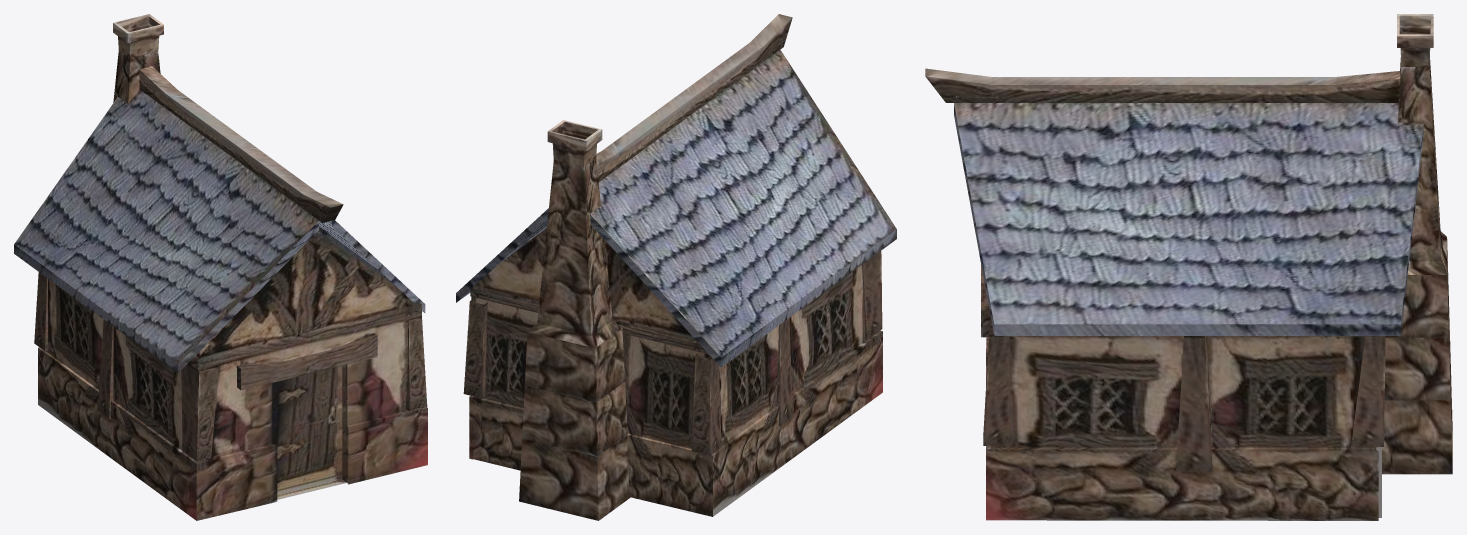
3 renders of one model, left to right at view 1: azimuth 30°, elevation 25°; view 2: azimuth 150°, elevation 25°; view 3: azimuth 270°, elevation 25°, orthographic. The views are drawn at different scales.
Parts seen in each view (by area): view 1: h1; view 2: h1; view 3: h1.
Part boxes in pixels (<box>): h1: <box>14,14,427,520</box>; h1: <box>456,14,896,520</box>; h1: <box>925,14,1452,520</box>.
Size of the model in its own units: 1.22 by 1.62 by 1.81.
Materials: 1 (1 with a texture image).
